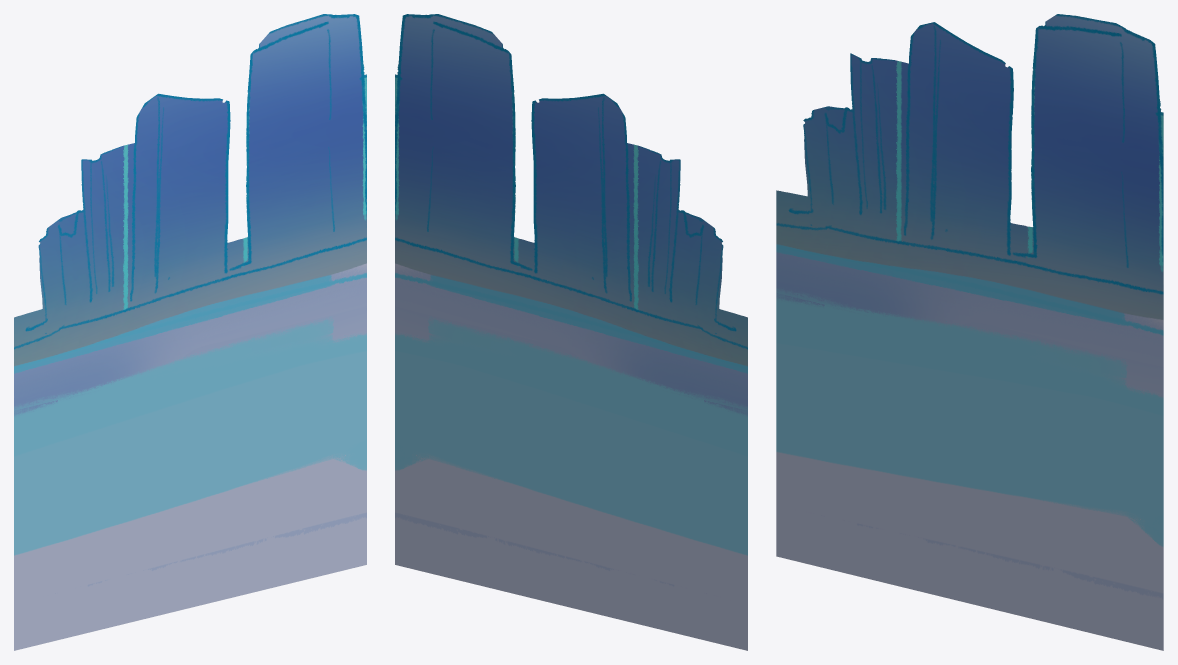
3 renders of one model, left to right at view 1: azimuth 30°, elevation 25°; view 2: azimuth 150°, elevation 25°; view 3: azimuth 330°, elevation 25°, orthographic. The views are drawn at different scales.
Visible parts, largest first — view 1: mask_bg_4; view 2: mask_bg_4; view 3: mask_bg_4.
Part boxes in pixels (<box>): mask_bg_4: <box>14,14,366,650</box>; mask_bg_4: <box>395,14,747,650</box>; mask_bg_4: <box>776,14,1163,650</box>.
Size of the model in its own units: 6.68 by 10.15 by 1.53e-07.
Materials: 1 (1 with a texture image).
